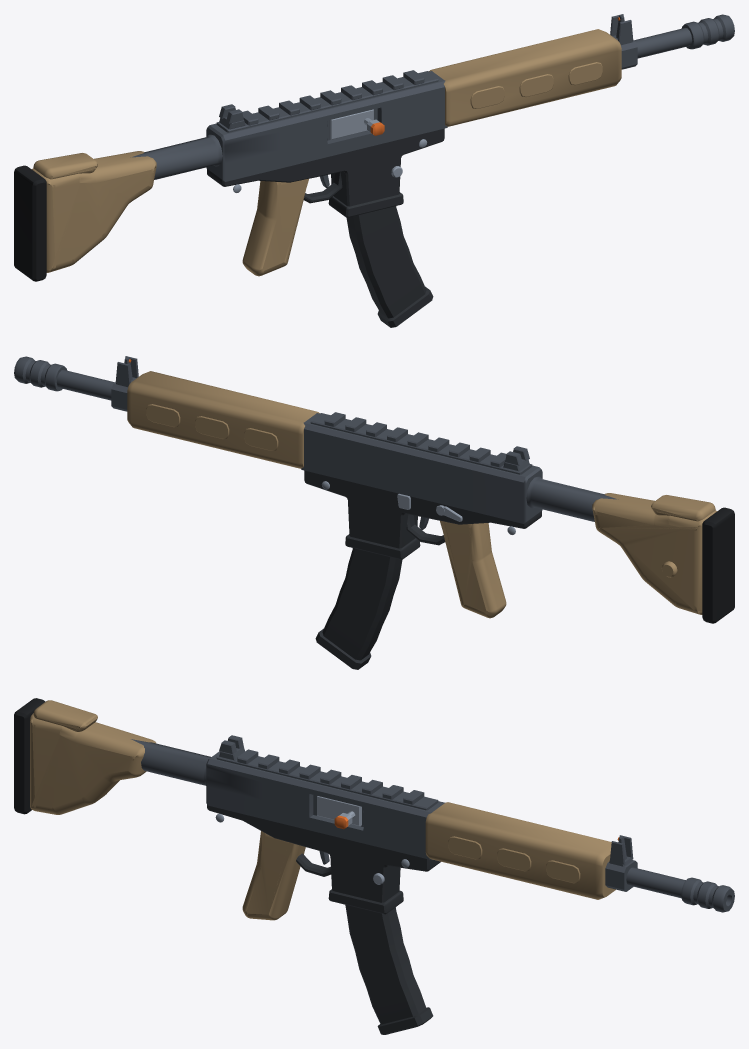
The model's file is Rifle.fbx.
3 renders of one model, top to bottom at view 1: azimuth 30°, elevation 25°; view 2: azimuth 150°, elevation 25°; view 3: azimuth 330°, elevation 25°, orthographic.
Visible parts, largest first — view 1: Rifle_Furniture, Rifle_Upper, Rifle_Lower, Rifle_Magazine, Rifle_Barrel, Rifle_ButtPad, Rifle_Bolt; view 2: Rifle_Furniture, Rifle_Upper, Rifle_Lower, Rifle_Magazine, Rifle_Barrel, Rifle_ButtPad; view 3: Rifle_Furniture, Rifle_Upper, Rifle_Lower, Rifle_Magazine, Rifle_Barrel, Rifle_ButtPad, Rifle_Bolt.
Boxes of the visible parts, <box> form: Rifle_Furniture: <box>31,29,621,276</box>; Rifle_Upper: <box>206,70,447,181</box>; Rifle_Lower: <box>207,128,444,217</box>; Rifle_Magazine: <box>346,206,433,327</box>; Rifle_Barrel: <box>130,14,734,179</box>; Rifle_ButtPad: <box>14,165,46,281</box>; Rifle_Bolt: <box>329,109,379,139</box>; Rifle_Furniture: <box>127,371,717,618</box>; Rifle_Upper: <box>301,412,542,523</box>; Rifle_Lower: <box>304,470,541,559</box>; Rifle_Magazine: <box>315,548,402,669</box>; Rifle_Barrel: <box>14,356,618,521</box>; Rifle_ButtPad: <box>702,507,734,623</box>; Rifle_Furniture: <box>30,700,615,920</box>; Rifle_Upper: <box>206,735,445,859</box>; Rifle_Lower: <box>207,805,440,914</box>; Rifle_Magazine: <box>345,905,433,1034</box>; Rifle_Barrel: <box>131,739,734,912</box>; Rifle_ButtPad: <box>14,698,45,814</box>; Rifle_Bolt: <box>317,796,361,826</box>.
Size of the model in its own units: 74.9 by 25.66 by 5.92.
